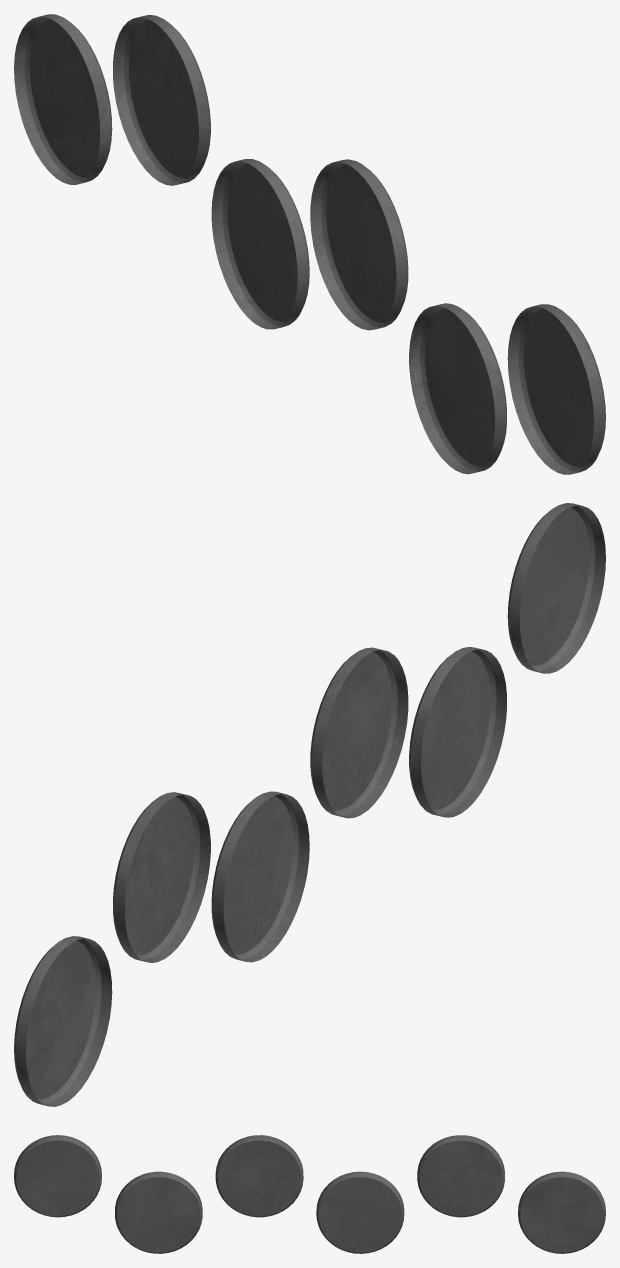
The model's file is cP_Pathway03_SteppingStoneRound02_Comb02.dae.
The picture shows the model from 3 angles, top to bottom: view 1: azimuth 30°, elevation 25°; view 2: azimuth 150°, elevation 25°; view 3: azimuth 270°, elevation 25°; orthographic projection. The views are drawn at different scales.
Visible parts, largest first — view 1: cP_Pathway03_SteppingStoneRound02_Comb02.001; view 2: cP_Pathway03_SteppingStoneRound02_Comb02.001; view 3: cP_Pathway03_SteppingStoneRound02_Comb02.001.
Boxes of the visible parts, left/top/right/bottom form: cP_Pathway03_SteppingStoneRound02_Comb02.001: left=14, top=14, right=605, bottom=474; cP_Pathway03_SteppingStoneRound02_Comb02.001: left=14, top=503, right=605, bottom=1106; cP_Pathway03_SteppingStoneRound02_Comb02.001: left=14, top=1135, right=605, bottom=1253.
Size of the model in its own units: 0.0521 by 3.67 by 0.7957.
